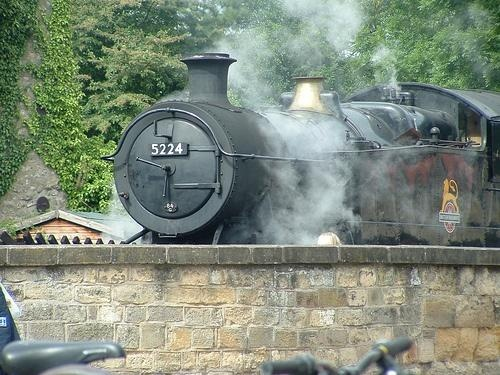train: (100, 52, 500, 248)
